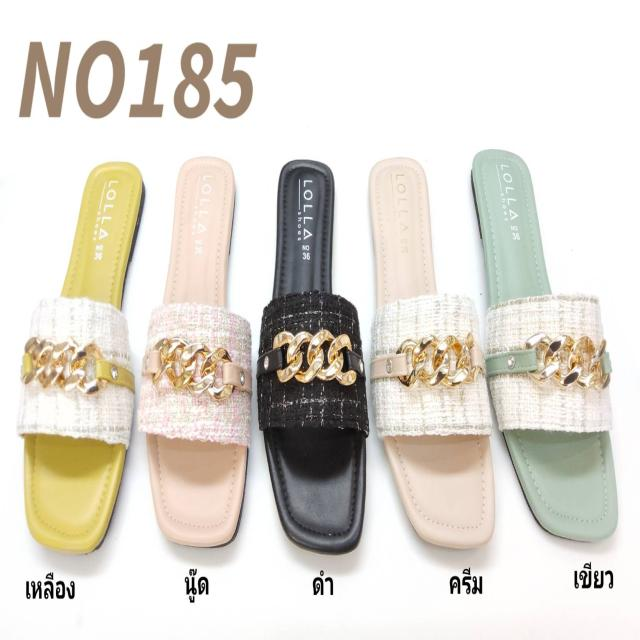black: (262, 150, 366, 558)
cream: (364, 141, 496, 561)
green: (468, 122, 598, 558)
nood: (144, 148, 255, 558)
yellow: (10, 160, 138, 580)
